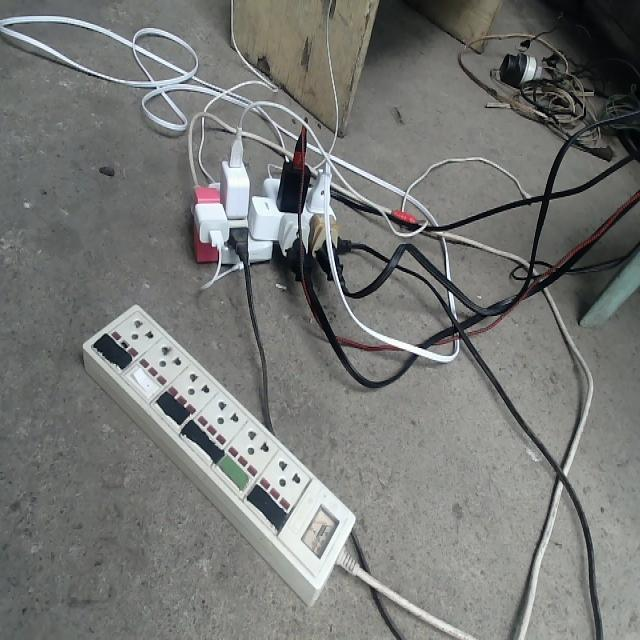-: (188, 115, 359, 288)
